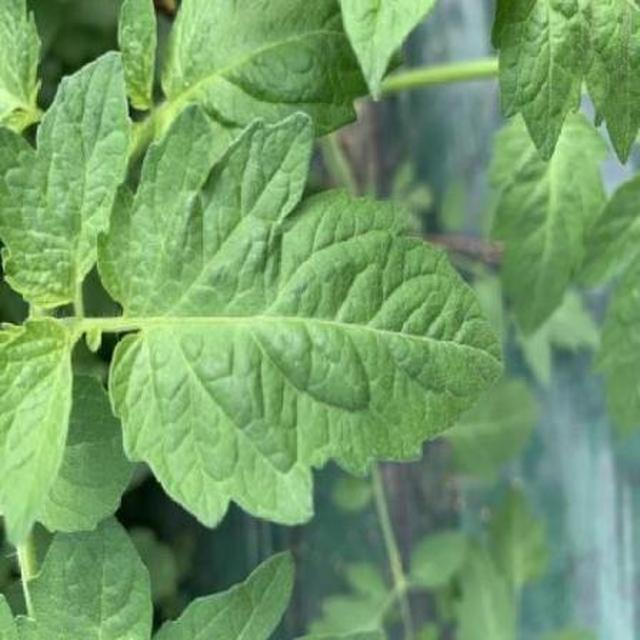Healthy Leaf: (53, 258, 585, 615)
